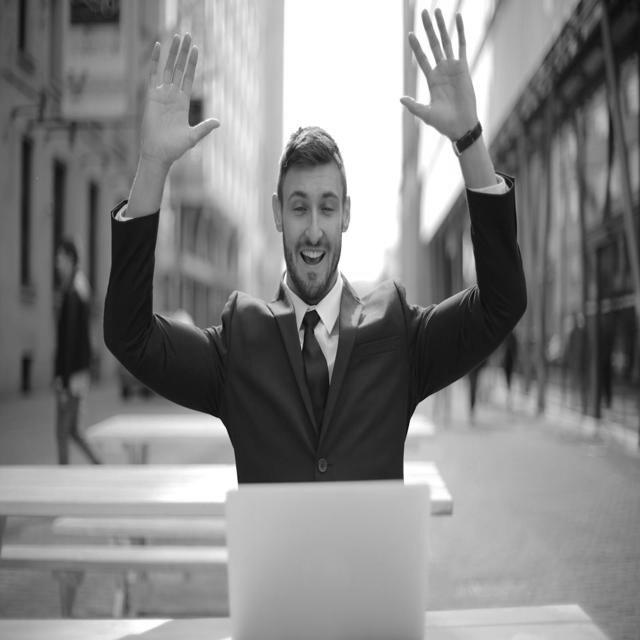Happiness: (276, 165, 346, 302)
